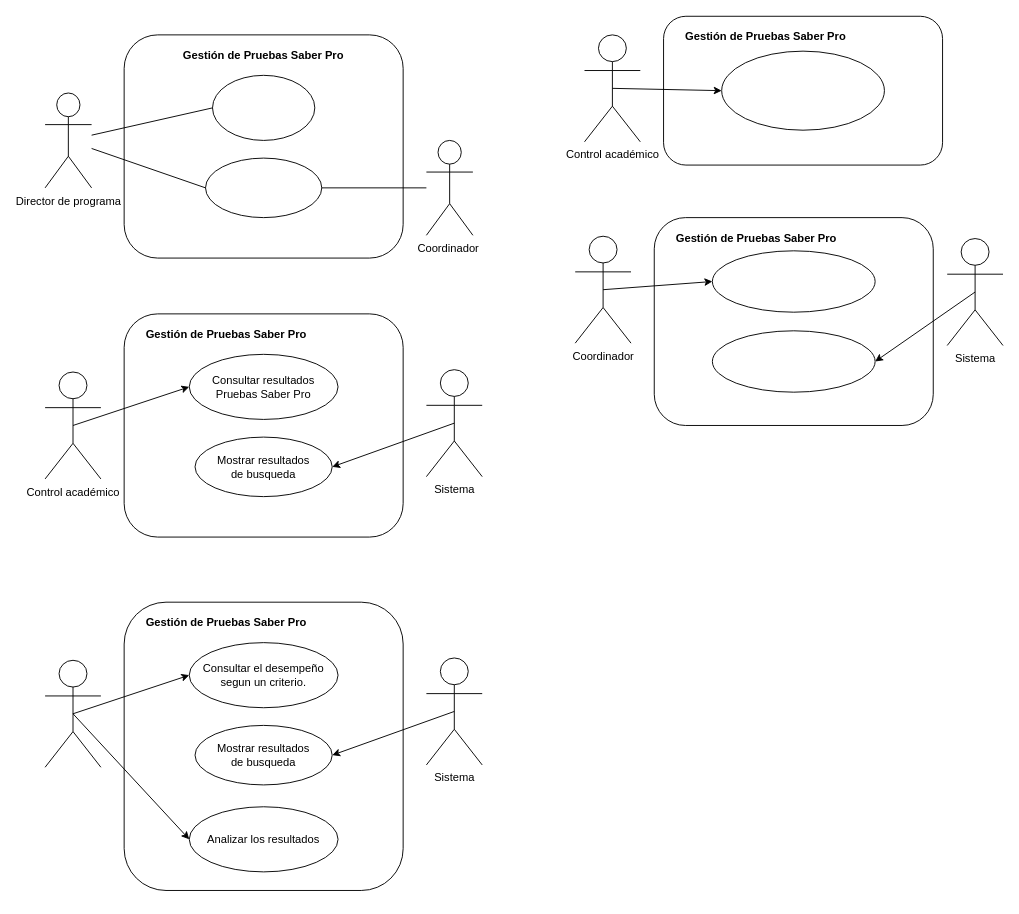
The diagram is 1019 pixels wide and 914 high, and some of its shapes have lost their labels. Here are the shapes that lost their labels. From the top down, the centre of each, then its label:
At (263,107): "Evaluar los resultados".
At (802,90): "Evaluar impacto del pensum y desempeño docente".
At (263,187): "Tomar medidas de retroalimentación".
At (793,281): "Definir medidas de retroalimentación.".
At (793,361): "Guardar como referencia para futuros cambios.".
At (72,713): "Control Academico".
